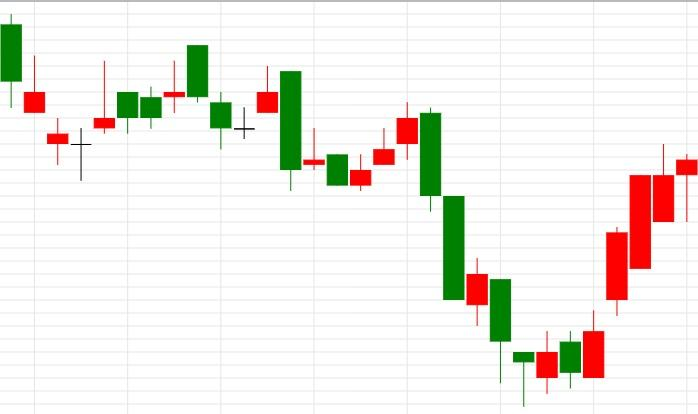three_white_soldiers_rise: (279, 70, 419, 192)
